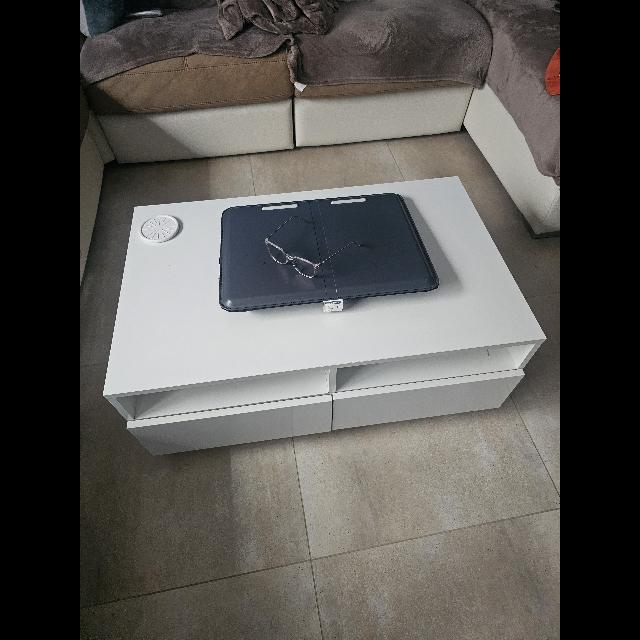glasses: (264, 216, 360, 278)
